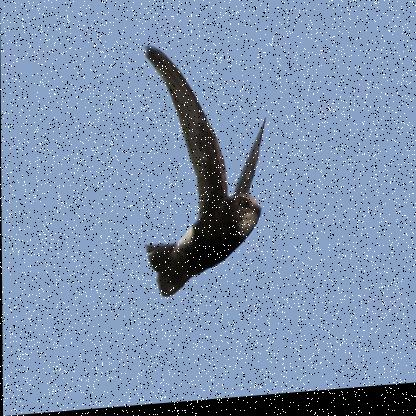Burung: (142, 39, 267, 301)
